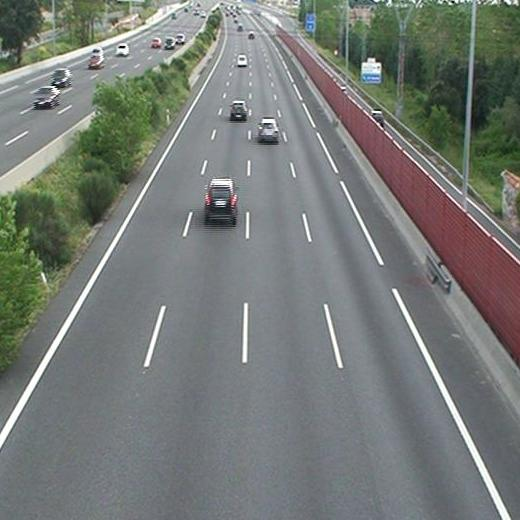car: (206, 180, 236, 217), (258, 119, 279, 142), (231, 101, 247, 118), (237, 55, 247, 66)
